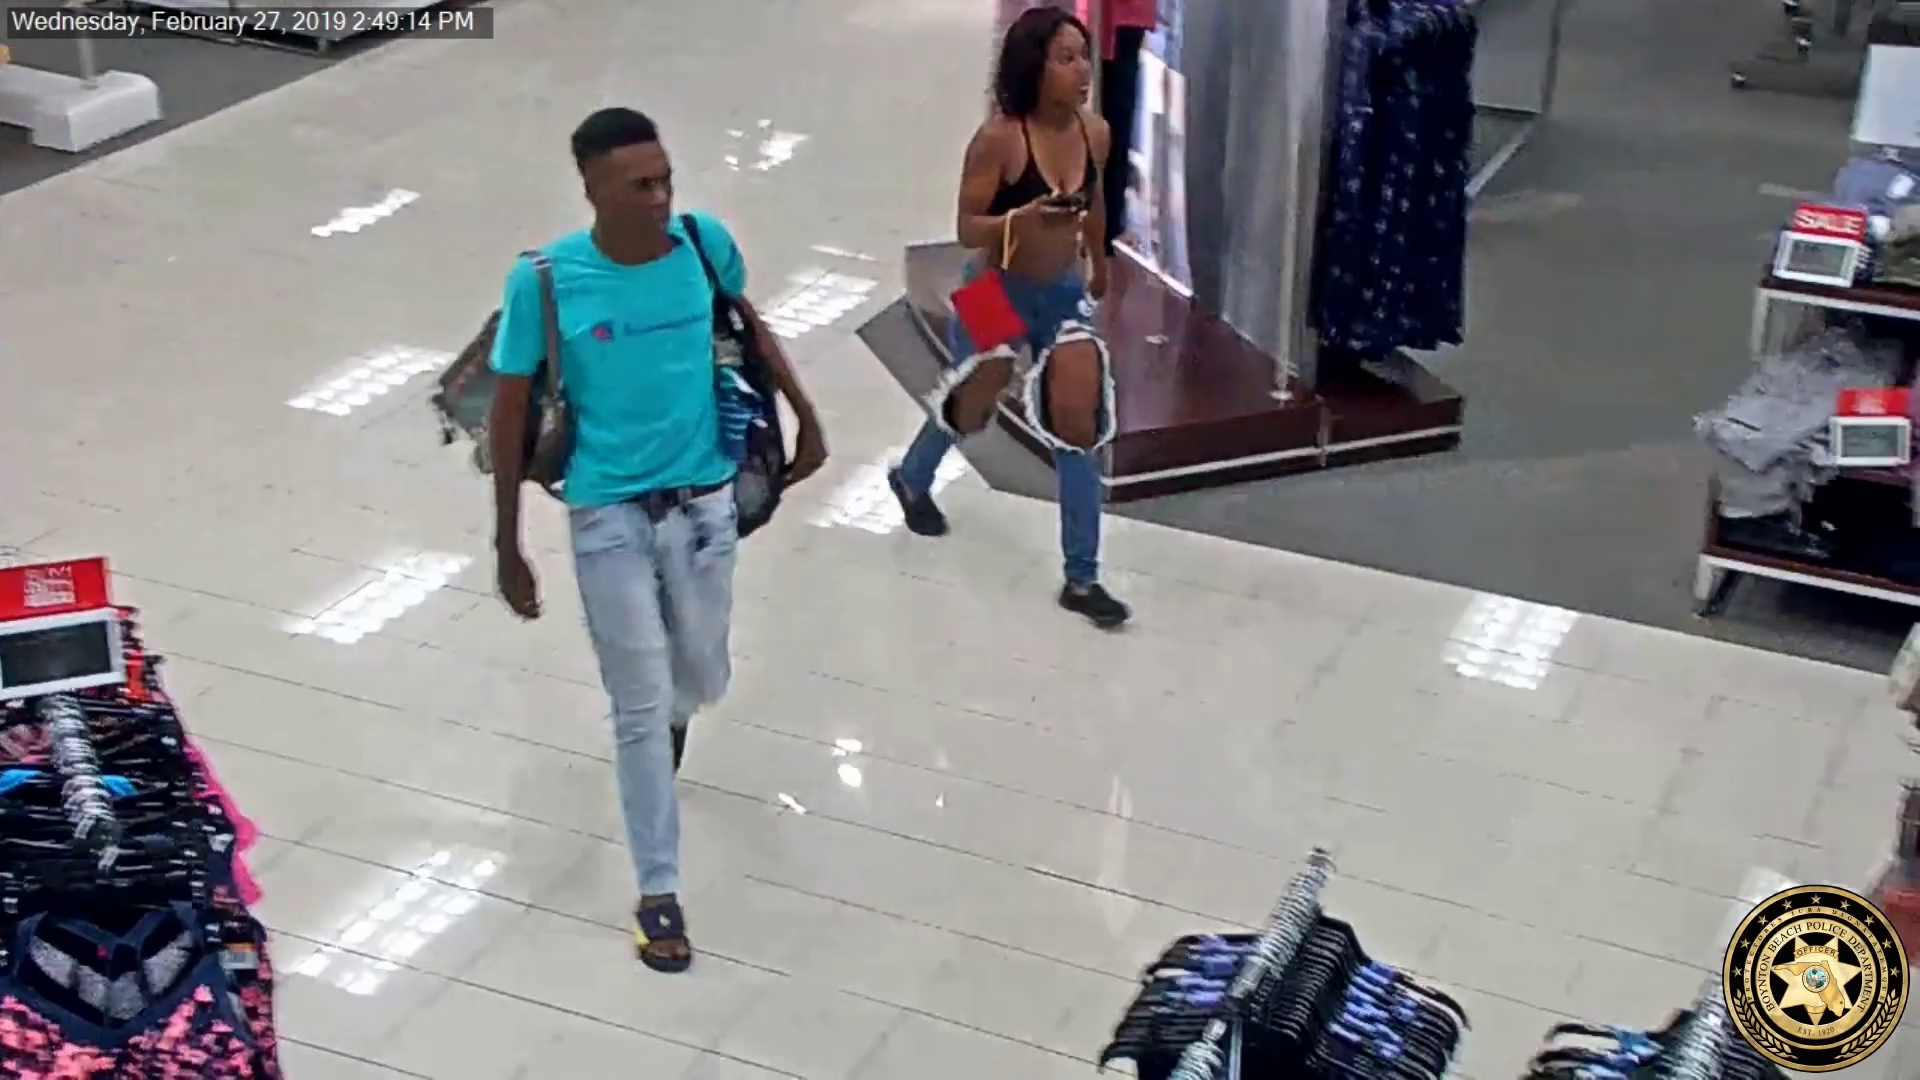face: (600, 144, 679, 241), (1040, 28, 1094, 109)
